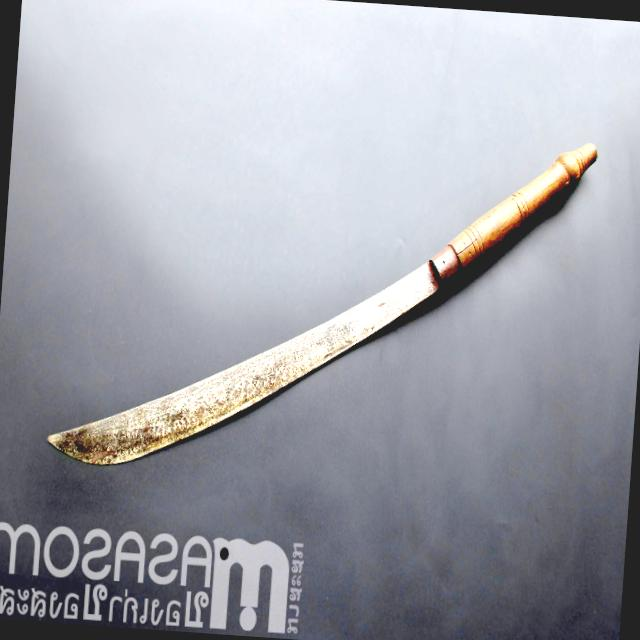long sword: (42, 98, 602, 504)
